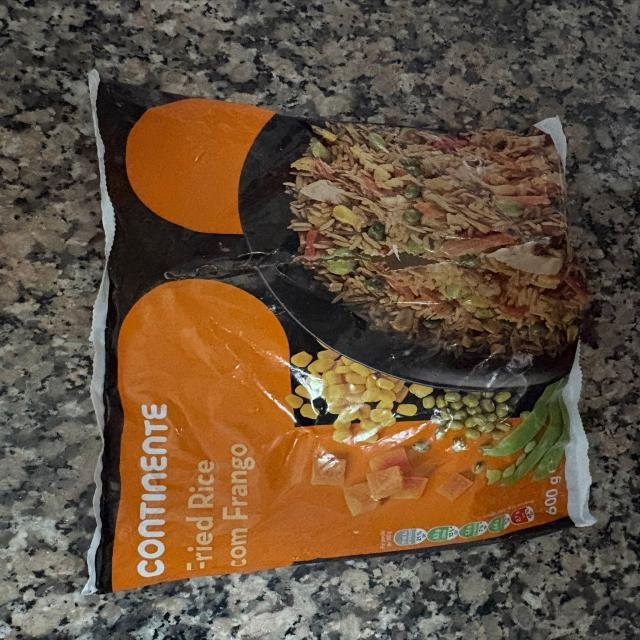damaged_package: (83, 70, 595, 592)
